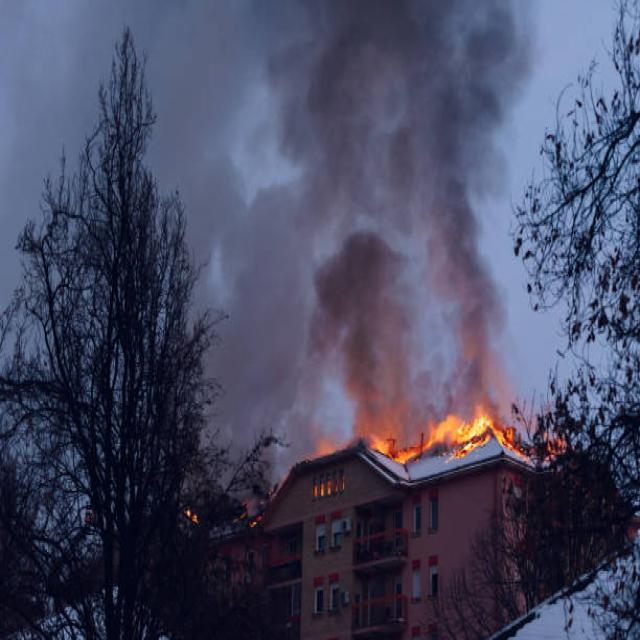Fire: (368, 402, 572, 469), (312, 471, 346, 501)
Smoke: (277, 0, 535, 440)
